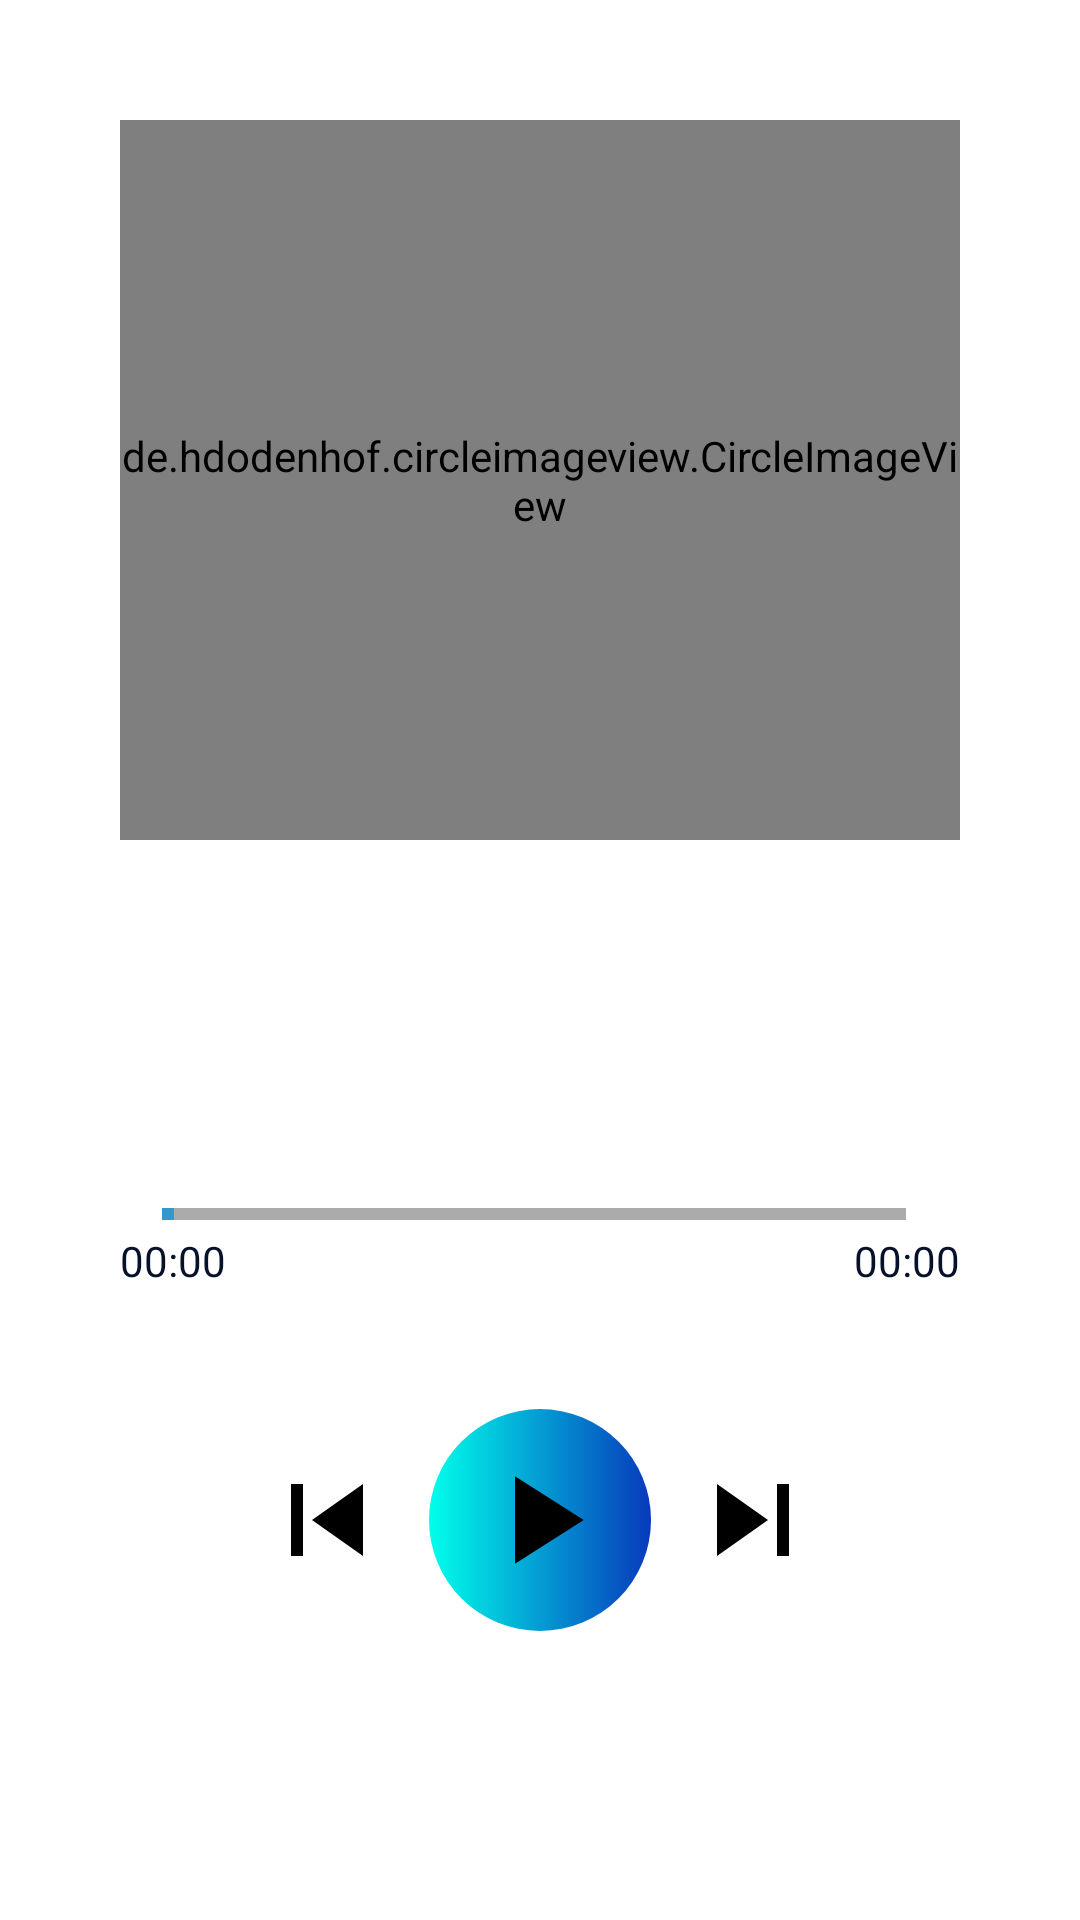

Icon click points for this 1080px x 1920px phone screenshot, format [x,y]:
next: [753,1520]
play: [540,1520]
previous: [327,1520]
